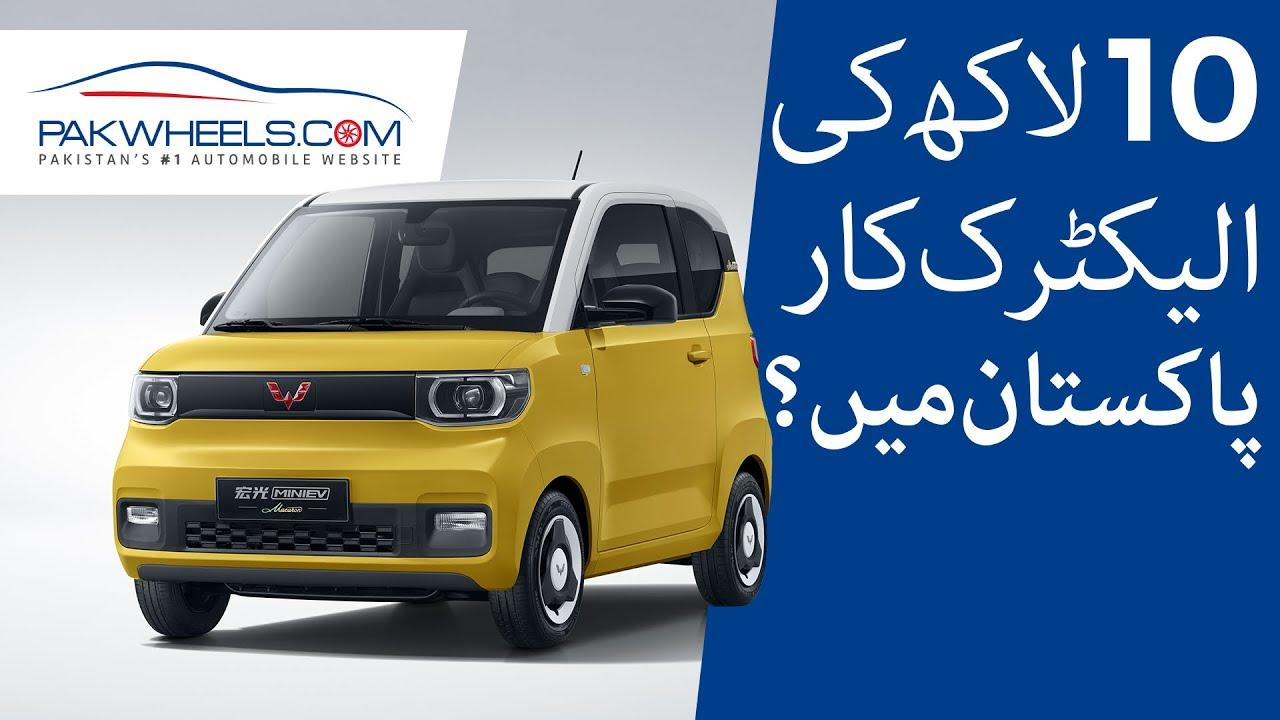windshield: (205, 192, 588, 348)
